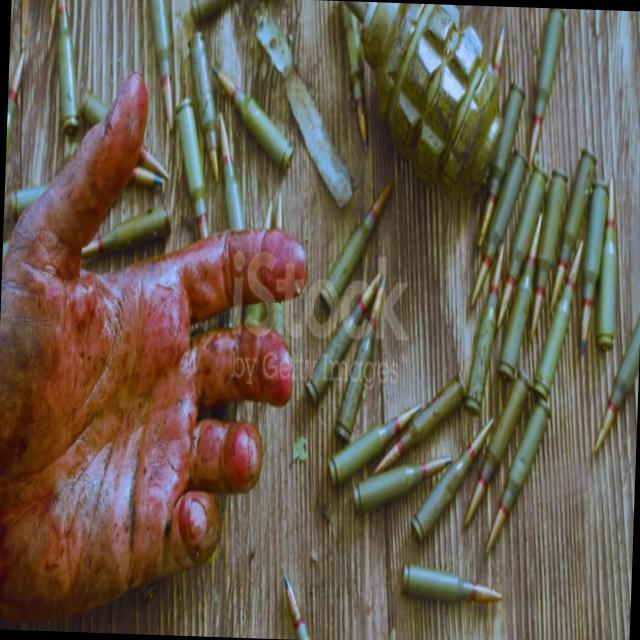grenade: (358, 4, 512, 204)
